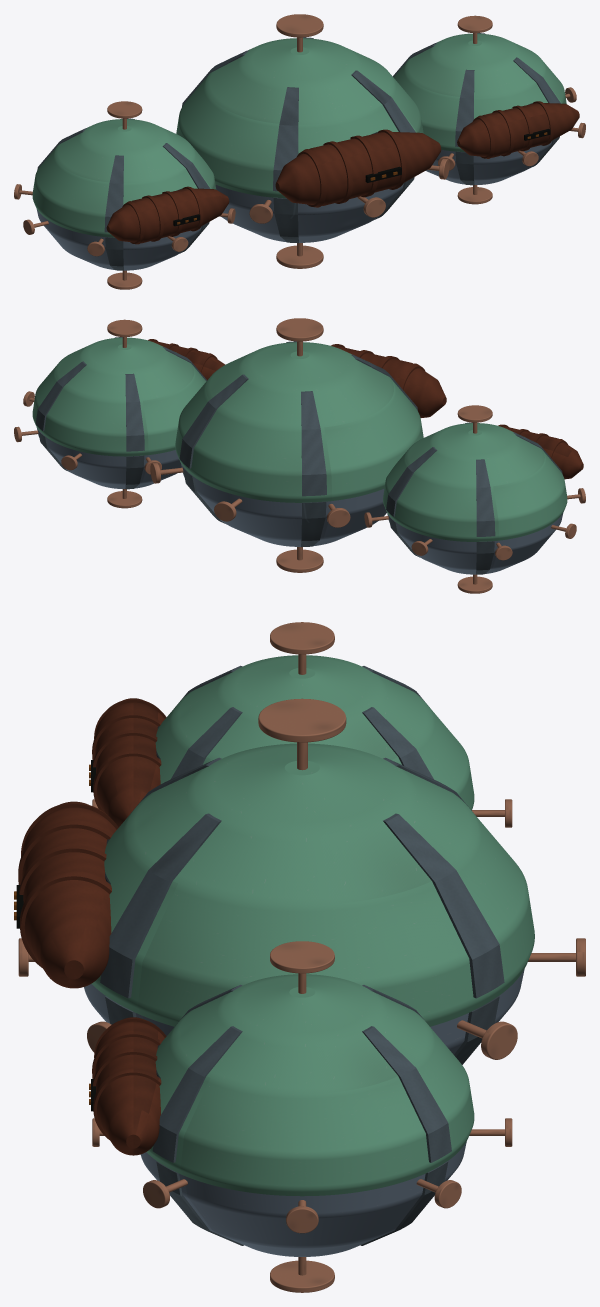
3 views of the same model, one above another, from view 1: azimuth 30°, elevation 25°; view 2: azimuth 150°, elevation 25°; view 3: azimuth 270°, elevation 25° (orthographic). The views are drawn at different scales.
Visible parts, largest first — view 1: Na-Xanth green chamber 0, Na-Xanth green chamber 1, Na-Xanth green chamber 2, Na-Xanth flattened copper interface 0, Na-Xanth slate chamber 0, Na-Xanth flattened copper interface 1, Na-Xanth flattened copper interface 2, Na-Xanth slate chamber 1, Na-Xanth slate chamber 2, Na-Xanth broad green chamber brace 0 0, Na-Xanth broad green chamber brace 0 1, Na-Xanth broad slate chamber brace 0 0 (+17 smaller); view 2: Na-Xanth green chamber 0, Na-Xanth green chamber 1, Na-Xanth green chamber 2, Na-Xanth slate chamber 0, Na-Xanth slate chamber 1, Na-Xanth slate chamber 2, Na-Xanth broad green chamber brace 0 3, Na-Xanth flattened copper interface 0, Na-Xanth broad green chamber brace 0 2, Na-Xanth broad green chamber brace 1 3, Na-Xanth broad green chamber brace 2 3, Na-Xanth flattened copper interface 1 (+13 smaller); view 3: Na-Xanth green chamber 0, Na-Xanth green chamber 2, Na-Xanth green chamber 1, Na-Xanth slate chamber 2, Na-Xanth flattened copper interface 0, Na-Xanth flattened copper interface 2, Na-Xanth broad green chamber brace 0 2, Na-Xanth broad green chamber brace 0 1, Na-Xanth flattened copper interface 1, Na-Xanth axial disc 0 1, Na-Xanth broad green chamber brace 2 2, Na-Xanth broad green chamber brace 2 1 (+13 smaller).
Part boxes in pixels (x1=…): Na-Xanth green chamber 0: x1=176, y1=38, x2=423, y2=198; Na-Xanth green chamber 1: x1=32, y1=119, x2=216, y2=237; Na-Xanth green chamber 2: x1=393, y1=33, x2=566, y2=151; Na-Xanth flattened copper interface 0: x1=275, y1=132, x2=441, y2=205; Na-Xanth slate chamber 0: x1=215, y1=183, x2=403, y2=242; Na-Xanth flattened copper interface 1: x1=106, y1=188, x2=229, y2=243; Na-Xanth flattened copper interface 2: x1=457, y1=103, x2=579, y2=157; Na-Xanth slate chamber 1: x1=36, y1=209, x2=201, y2=270; Na-Xanth slate chamber 2: x1=425, y1=141, x2=551, y2=184; Na-Xanth broad green chamber brace 0 0: x1=273, y1=87, x2=298, y2=191; Na-Xanth broad green chamber brace 0 1: x1=351, y1=70, x2=415, y2=132; Na-Xanth broad slate chamber brace 0 0: x1=273, y1=197, x2=298, y2=243; Na-Xanth green chamber 0: x1=175, y1=342, x2=423, y2=502; Na-Xanth green chamber 1: x1=383, y1=423, x2=567, y2=541; Na-Xanth green chamber 2: x1=32, y1=337, x2=206, y2=456; Na-Xanth slate chamber 0: x1=181, y1=463, x2=386, y2=546; Na-Xanth slate chamber 1: x1=387, y1=513, x2=563, y2=574; Na-Xanth slate chamber 2: x1=36, y1=427, x2=181, y2=488; Na-Xanth broad green chamber brace 0 3: x1=301, y1=391, x2=326, y2=496; Na-Xanth flattened copper interface 0: x1=336, y1=346, x2=446, y2=417; Na-Xanth broad green chamber brace 0 2: x1=179, y1=374, x2=248, y2=468; Na-Xanth broad green chamber brace 1 3: x1=476, y1=459, x2=495, y2=536; Na-Xanth broad green chamber brace 2 3: x1=125, y1=373, x2=144, y2=451; Na-Xanth flattened copper interface 1: x1=502, y1=426, x2=583, y2=479; Na-Xanth green chamber 0: x1=91, y1=743, x2=534, y2=1026; Na-Xanth green chamber 2: x1=146, y1=974, x2=474, y2=1196; Na-Xanth green chamber 1: x1=155, y1=655, x2=474, y2=810; Na-Xanth slate chamber 2: x1=140, y1=1141, x2=466, y2=1256; Na-Xanth flattened copper interface 0: x1=21, y1=801, x2=116, y2=988; Na-Xanth flattened copper interface 2: x1=94, y1=1017, x2=164, y2=1155; Na-Xanth broad green chamber brace 0 2: x1=383, y1=813, x2=504, y2=998; Na-Xanth broad green chamber brace 0 1: x1=100, y1=813, x2=221, y2=998; Na-Xanth flattened copper interface 1: x1=94, y1=698, x2=164, y2=826; Na-Xanth axial disc 0 1: x1=258, y1=698, x2=346, y2=742; Na-Xanth broad green chamber brace 2 2: x1=362, y1=1026, x2=451, y2=1162; Na-Xanth broad green chamber brace 2 1: x1=152, y1=1026, x2=242, y2=1162.
Bounding box in the file's own units: 6.32 × 2.6 × 3.08.
10 materials, 7 textured.
